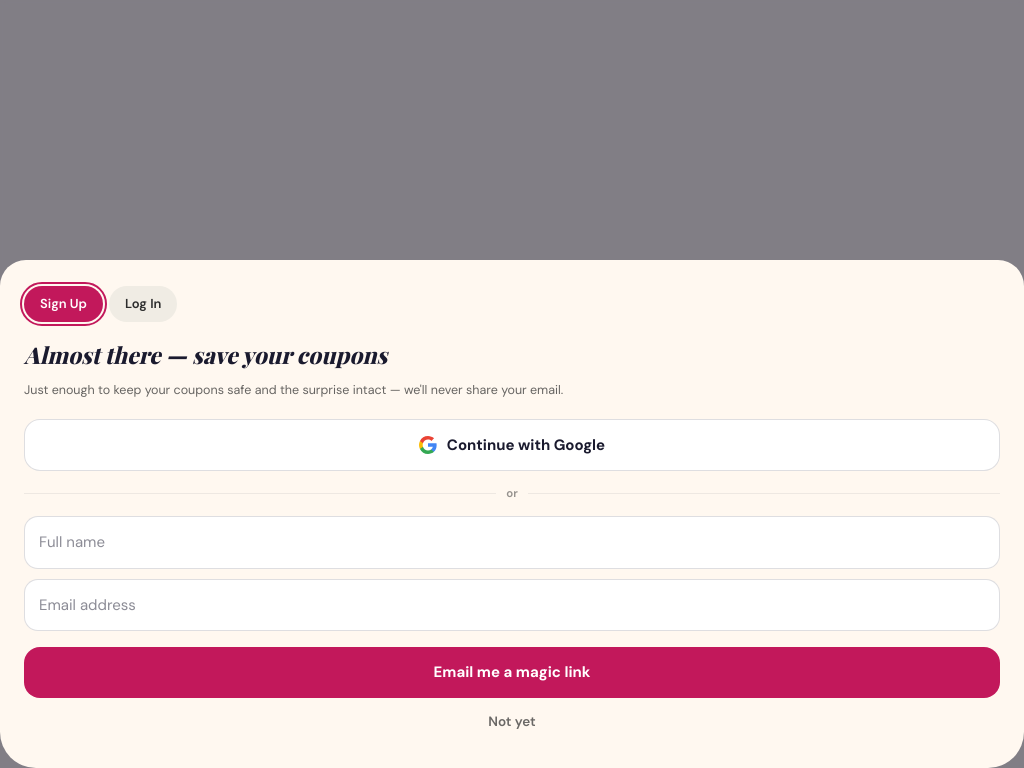
Scenario: AuthGate › shows a generic error and stays on the form for an unrecognized failure
Type "alex@example.com" into the field labelled "Email address" at [512, 605], box [24, 579, 1000, 631]
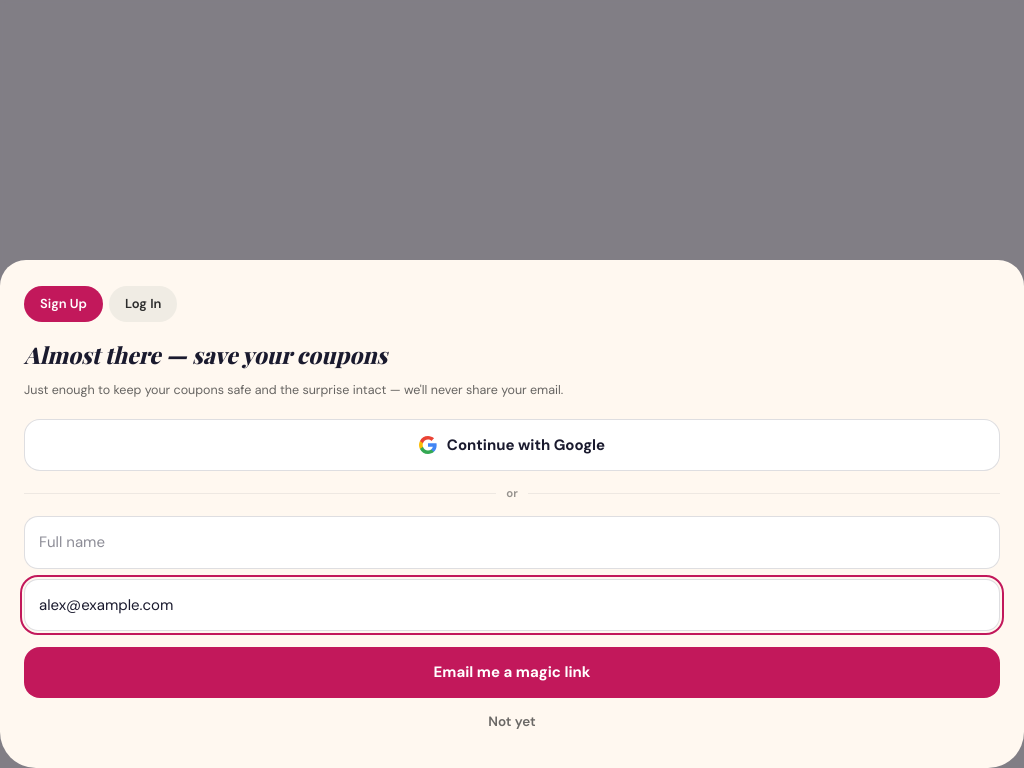
Click the button "Email me a magic link" at [512, 673], box [24, 647, 1000, 698]
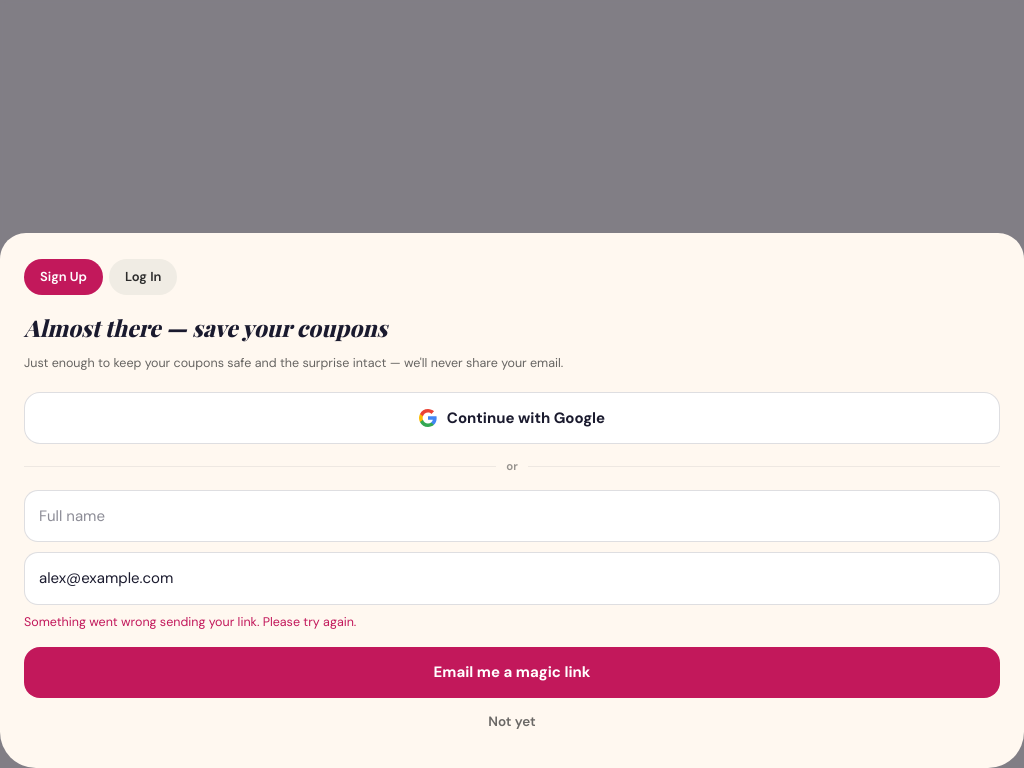
Result: the text "Something went wrong sending your link. Please try again." is shown at [24, 614, 356, 630]
